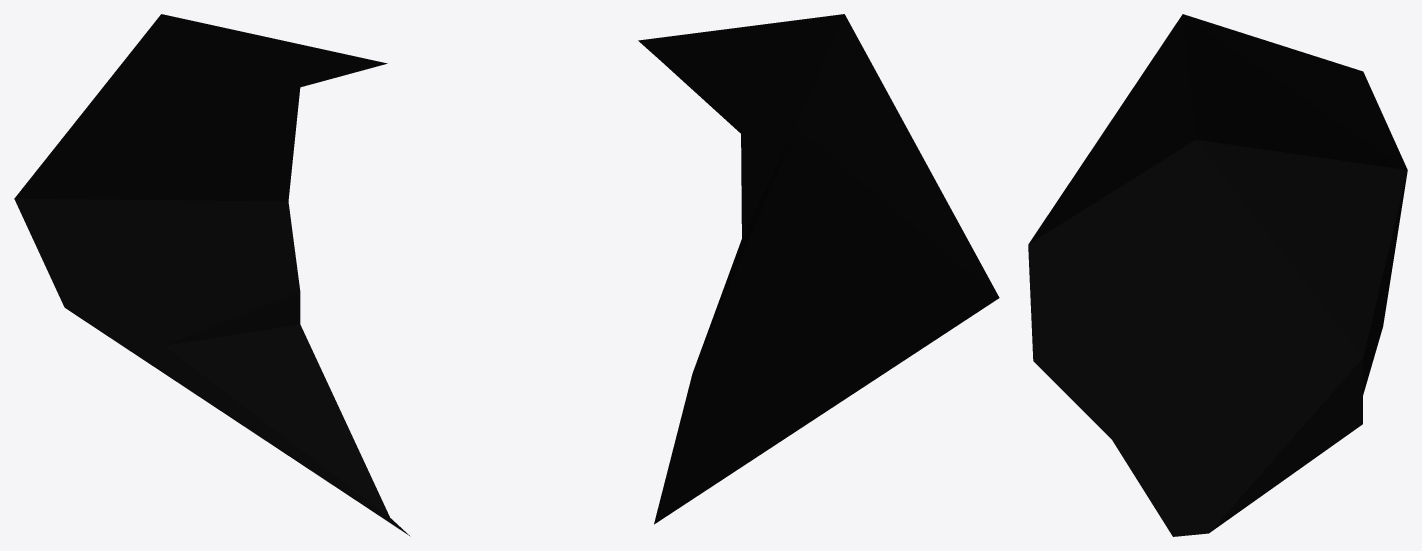
3 views of the same model, side by side, from view 1: azimuth 30°, elevation 25°; view 2: azimuth 150°, elevation 25°; view 3: azimuth 270°, elevation 25° (orthographic). The views are drawn at different scales.
Size of the model in its own units: 0.1714 by 0.2561 by 0.1973.
1 material, 1 textured.
